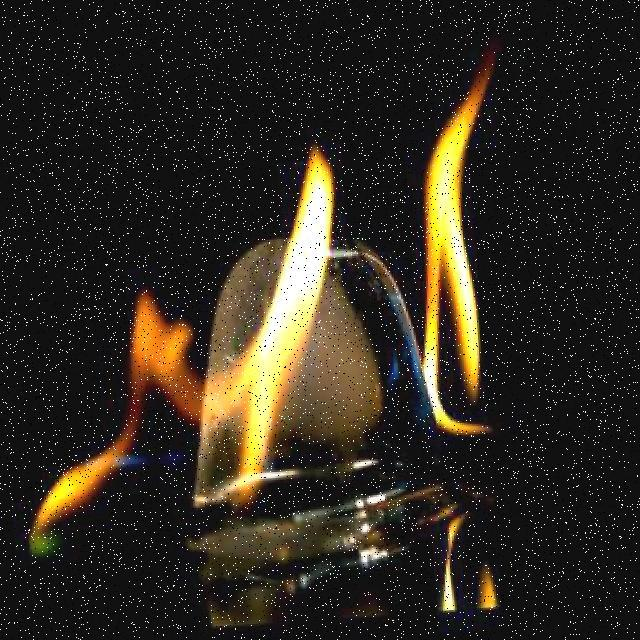Fire: (0, 124, 371, 557), (391, 35, 525, 447)
